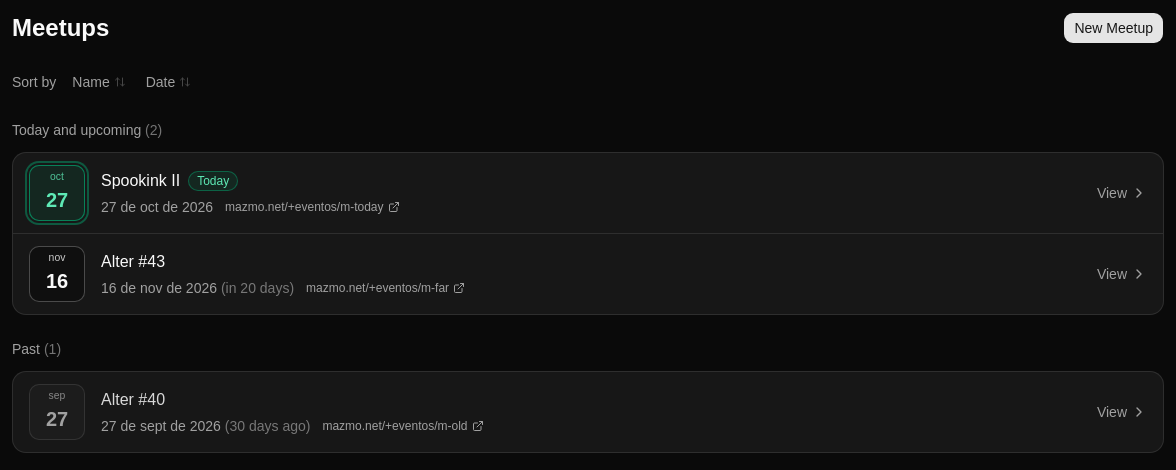
it: MeetupsPage — list › shows one flat list once a sort is picked
This screenshot has width=1176, height=470.
Click the button "Name" at (99, 82), box 64,68 -> 134,96
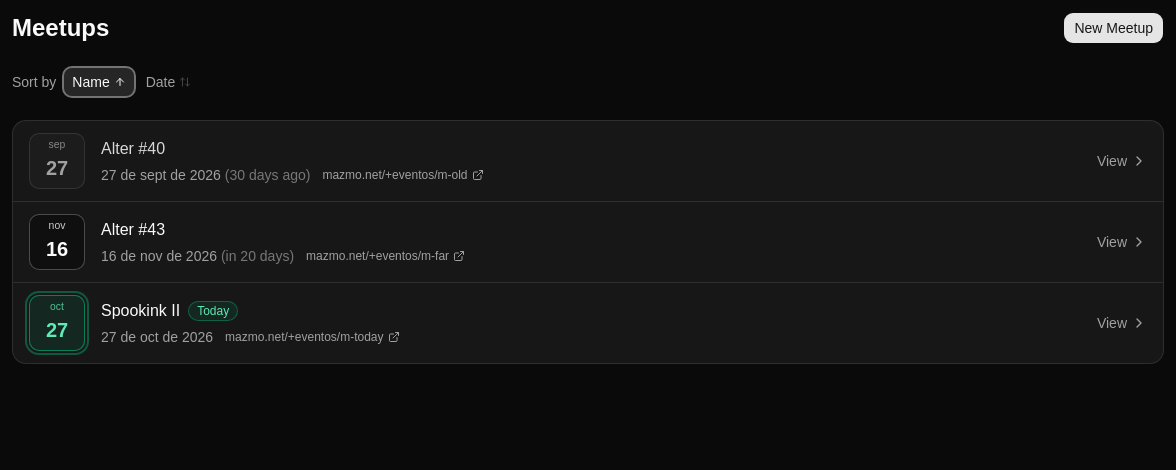
Check: the heading "Today and upcoming" is gone
